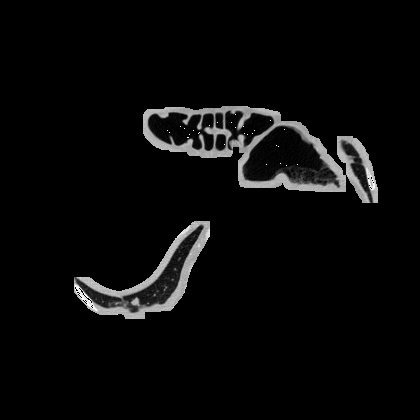PN: (131, 298, 139, 306)
